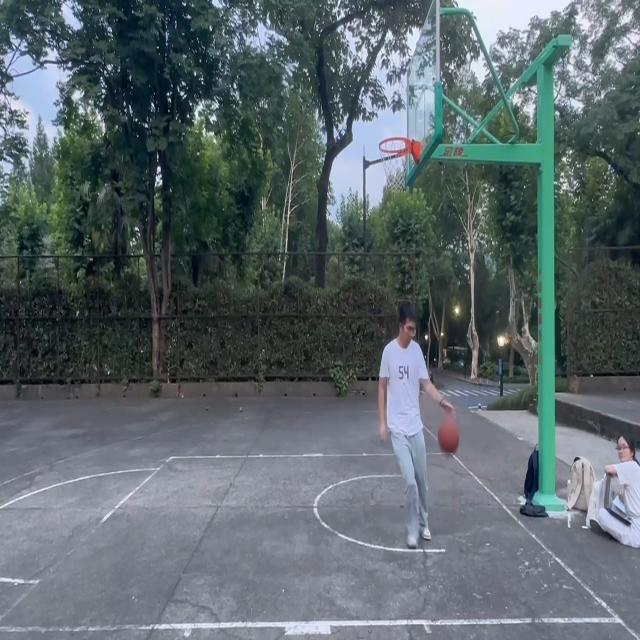basketball: (377, 138, 422, 193)
rim: (440, 417, 462, 454)
